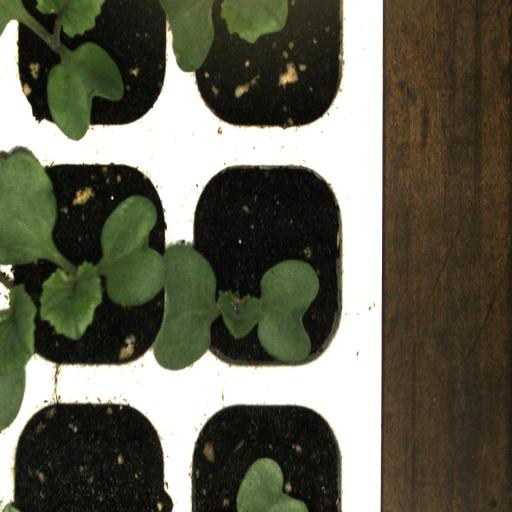Folha: (158, 0, 296, 73), (236, 457, 308, 512)
Germinacao: (0, 136, 184, 381), (182, 135, 356, 382), (3, 0, 181, 135)
